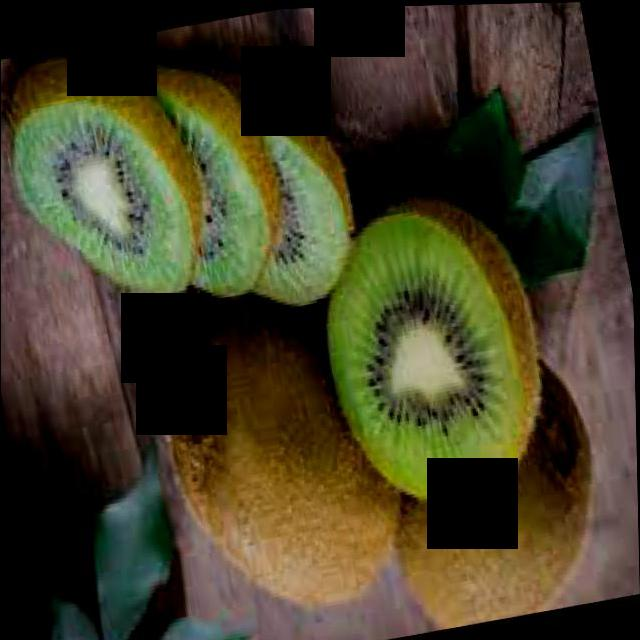kiwi: (148, 286, 413, 624), (374, 345, 621, 630)
